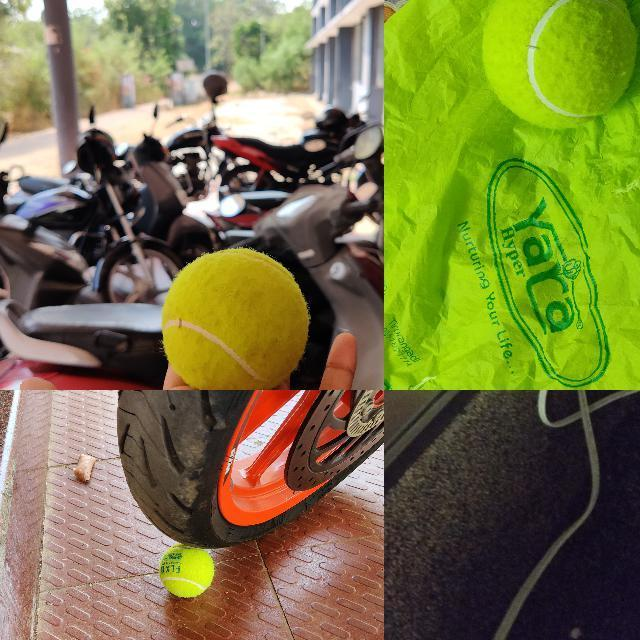tennis-ball: (160, 247, 308, 389), (481, 0, 639, 129), (159, 549, 214, 597)
